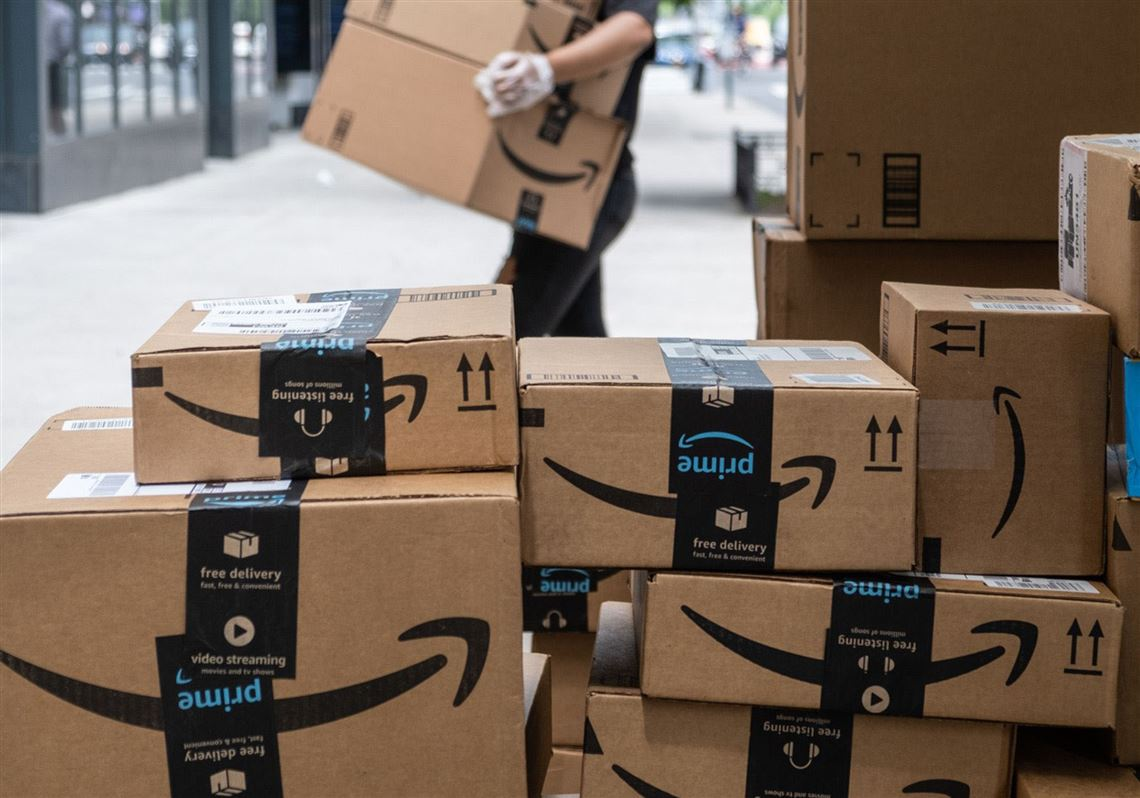DeliveryBox: (9, 397, 573, 798), (499, 537, 1140, 781), (509, 313, 937, 577), (761, 4, 1140, 245), (848, 269, 1118, 579), (113, 283, 544, 474)
